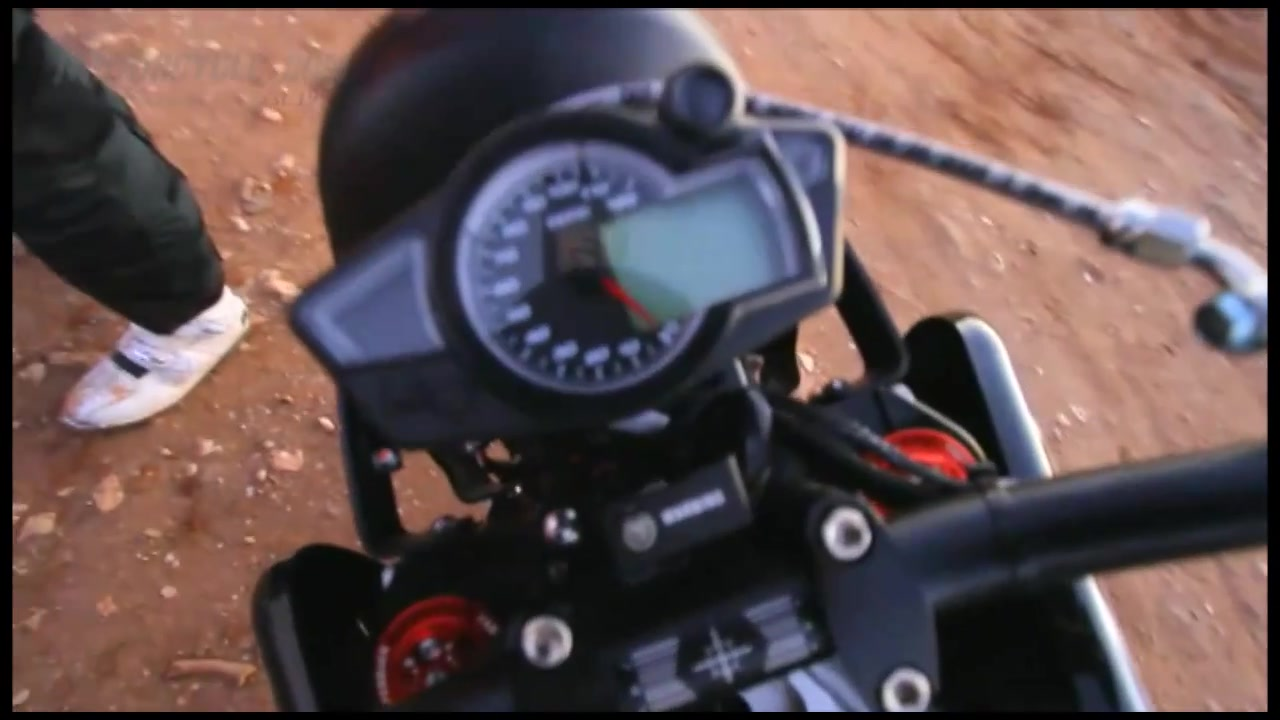motorbike: (246, 9, 1270, 719)
